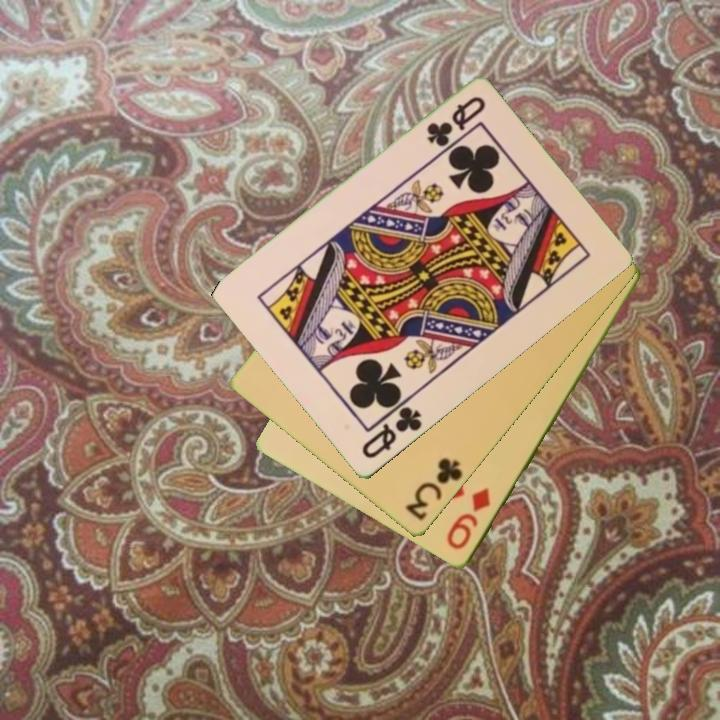3c: (402, 454, 466, 525)
9d: (443, 484, 494, 554)
Qc: (358, 395, 425, 462), (422, 93, 489, 150)
